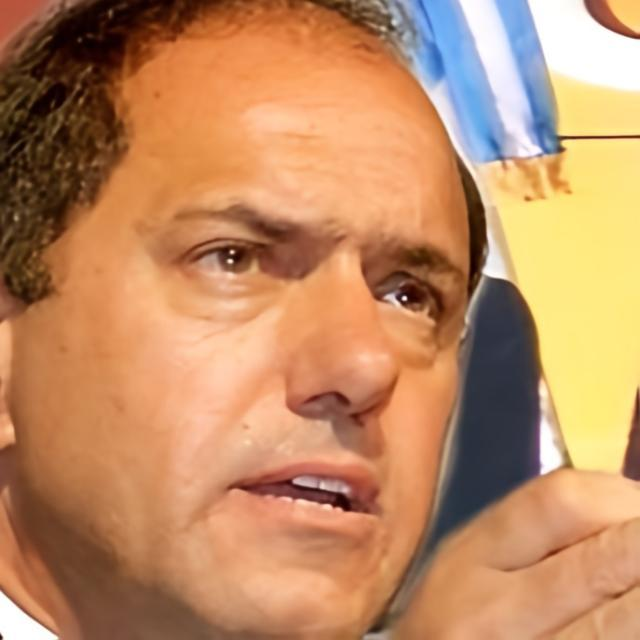disgust: (14, 1, 472, 640)
